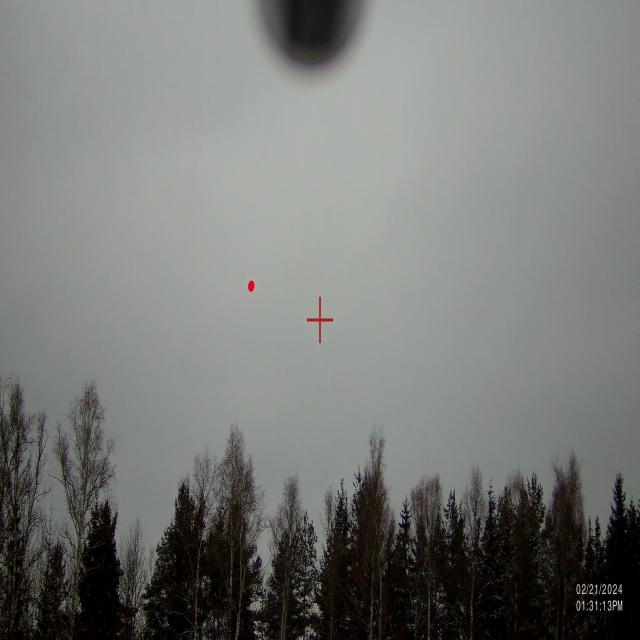entire: (244, 275, 258, 300)
